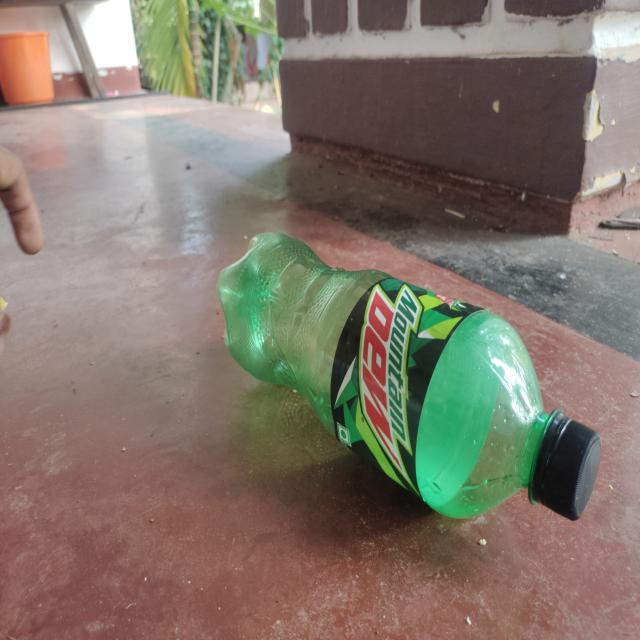plastic: (214, 227, 605, 526)
